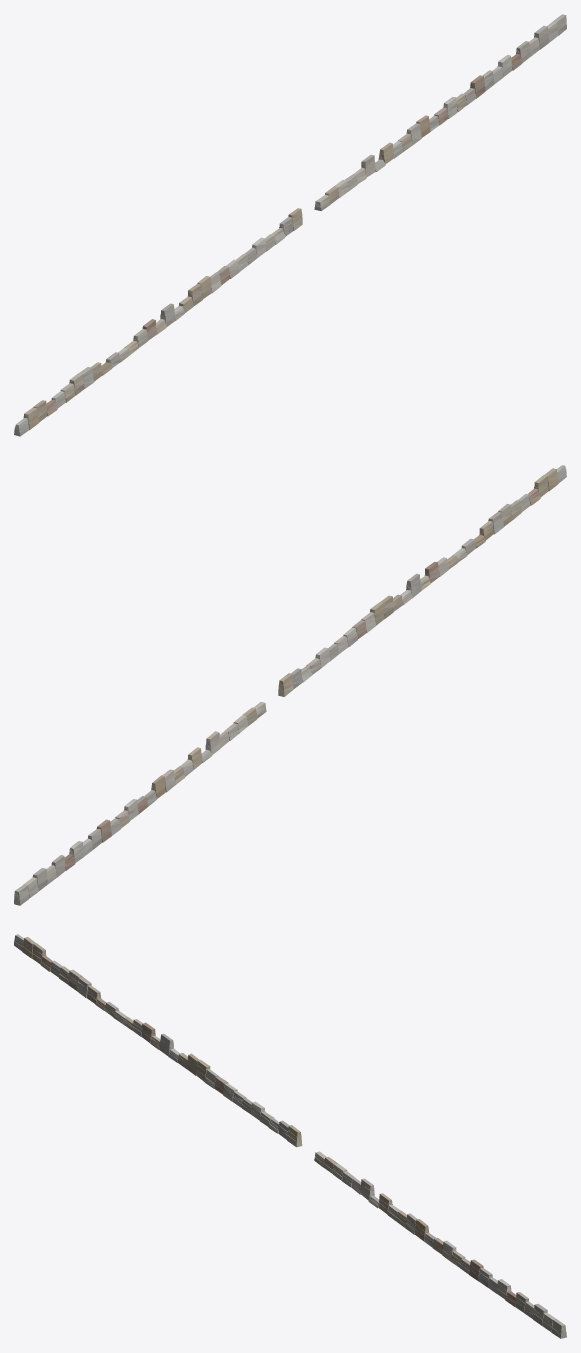
The model's file is farm_26_17_mid.glb.
The picture shows the model from 3 angles, top to bottom: view 1: azimuth 30°, elevation 25°; view 2: azimuth 210°, elevation 25°; view 3: azimuth 270°, elevation 25°; orthographic projection. The views are drawn at different scales.
Visible parts, largest first — view 1: geometry_0; view 2: geometry_0; view 3: geometry_0.
Boxes of the visible parts, x1=… form: geometry_0: x1=14, y1=14, x2=566, y2=436; geometry_0: x1=14, y1=465, x2=566, y2=905; geometry_0: x1=14, y1=934, x2=566, y2=1338.
Size of the model in its own units: 81.38 by 2.37 by 49.4.
